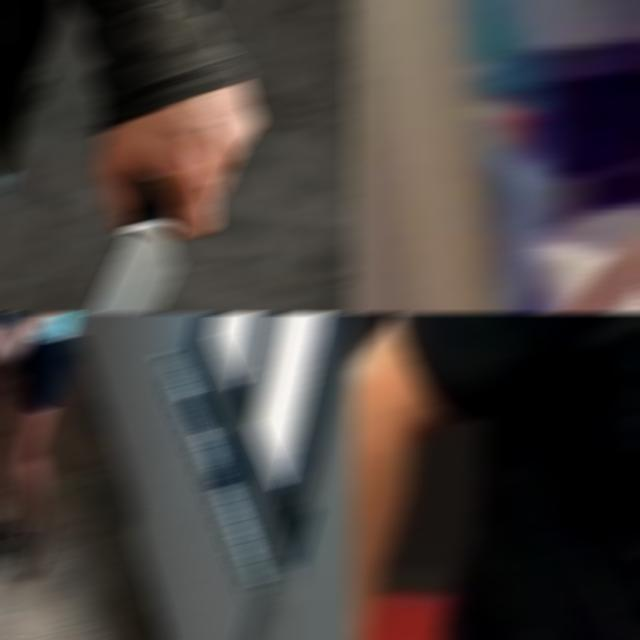Knife: (86, 175, 182, 312)
Knife_Handle: (470, 1, 640, 312), (85, 81, 264, 312)
